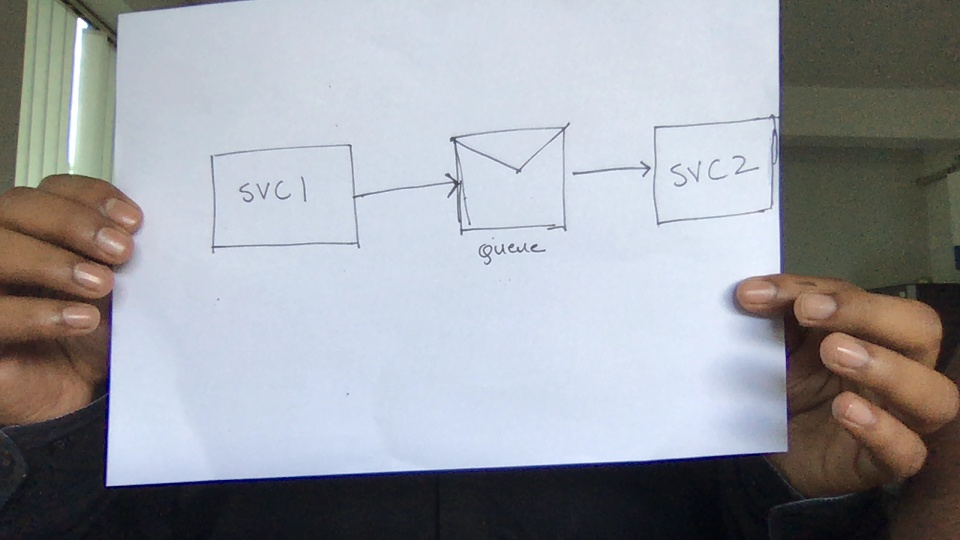ec2: (205, 140, 365, 259), (643, 110, 783, 231)
sns: (445, 122, 578, 244)
